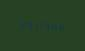eight: (24, 19, 30, 30), (52, 20, 58, 31)
nine: (17, 18, 23, 30), (45, 20, 51, 31)
one: (38, 19, 44, 31), (31, 19, 37, 30)
six: (59, 20, 65, 32)
